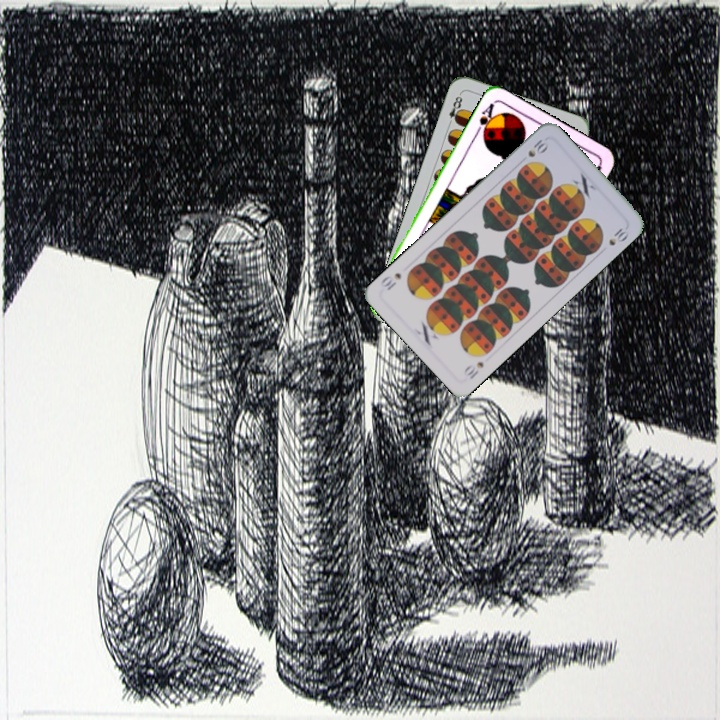E8: (444, 89, 465, 129)
S10: (459, 357, 486, 382), (524, 134, 549, 160)
SA: (472, 99, 498, 139)
